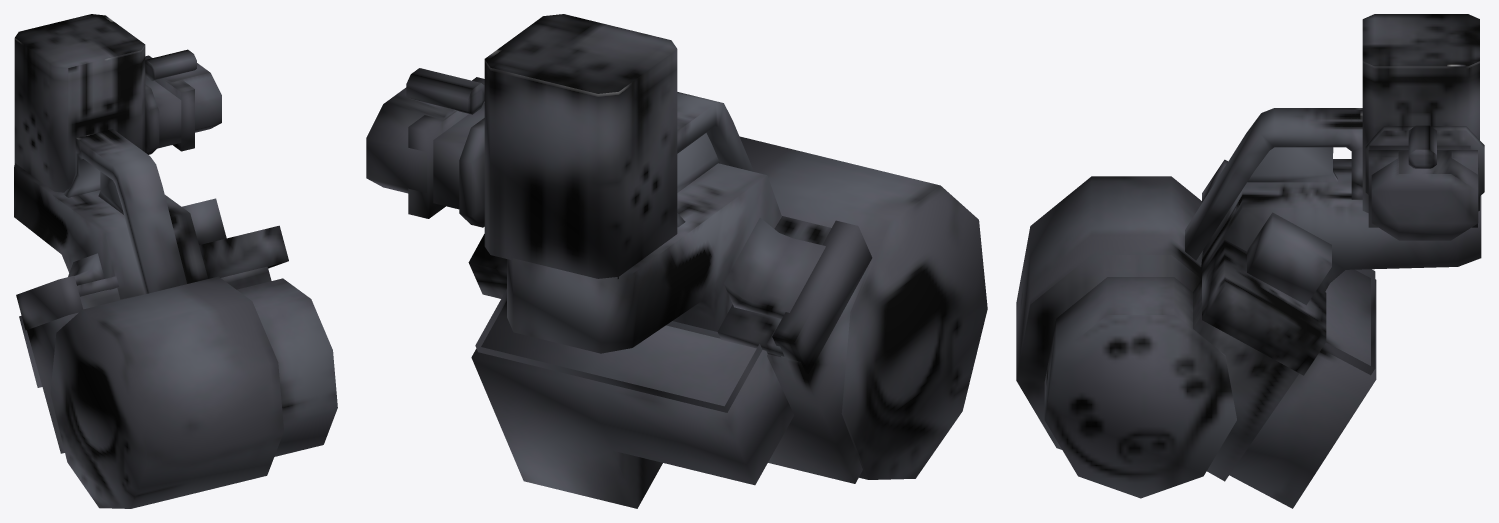
The model's file is r_clav.obj.
3 views of the same model, side by side, from view 1: azimuth 30°, elevation 25°; view 2: azimuth 150°, elevation 25°; view 3: azimuth 270°, elevation 25° (orthographic). The views are drawn at different scales.
Visible parts, largest first — view 1: <dummy_root>; view 2: <dummy_root>; view 3: <dummy_root>.
Part boxes in pixels (<box>): <dummy_root>: <box>14,14,337,508</box>; <dummy_root>: <box>366,14,987,508</box>; <dummy_root>: <box>1016,14,1484,508</box>.
Size of the model in its own units: 0.1202 by 0.1793 by 0.1828.
Materials: 1 (1 with a texture image).
